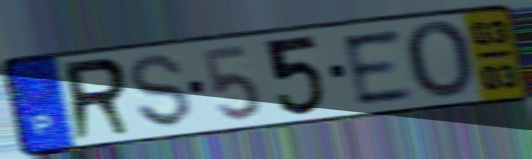5: (259, 31, 330, 117), (199, 41, 263, 124)
E: (337, 26, 418, 109)
O: (401, 19, 477, 103)
R: (61, 55, 137, 146)
S: (127, 53, 196, 130)
